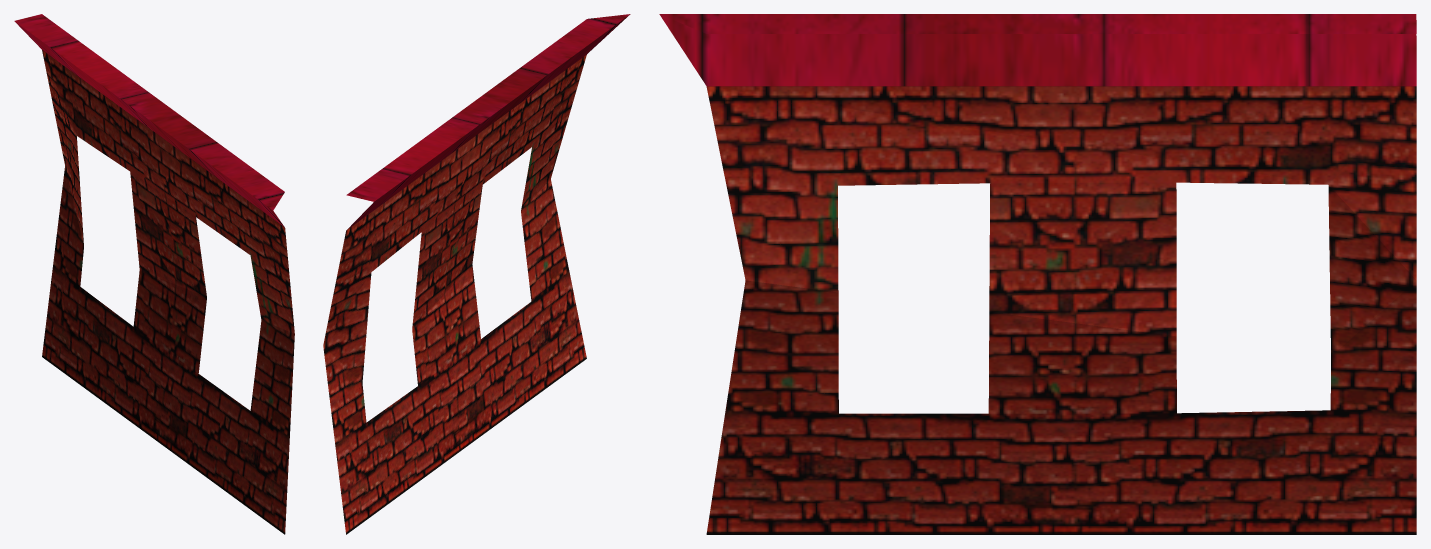
Rendered from W_A2l_ff [DunkleZiegel2]_1688.glb.
The picture shows the model from 3 angles, left to right: view 1: azimuth 30°, elevation 25°; view 2: azimuth 150°, elevation 25°; view 3: azimuth 270°, elevation 25°; orthographic projection. The views are drawn at different scales.
Parts seen in each view (by area): view 1: polySurfaceShape1183, polySurfaceShape1185; view 2: polySurfaceShape1183, polySurfaceShape1185; view 3: polySurfaceShape1183, polySurfaceShape1185.
Boxes of the visible parts, left/top/right/bottom form: polySurfaceShape1183: left=42, top=50, right=294, bottom=534; polySurfaceShape1185: left=14, top=14, right=284, bottom=227; polySurfaceShape1183: left=323, top=54, right=586, bottom=534; polySurfaceShape1185: left=346, top=14, right=630, bottom=229; polySurfaceShape1183: left=706, top=86, right=1416, bottom=534; polySurfaceShape1185: left=659, top=14, right=1416, bottom=86.
Size of the model in its own units: 0.0607 by 0.3891 by 0.5333.
2 materials, 2 textured.
